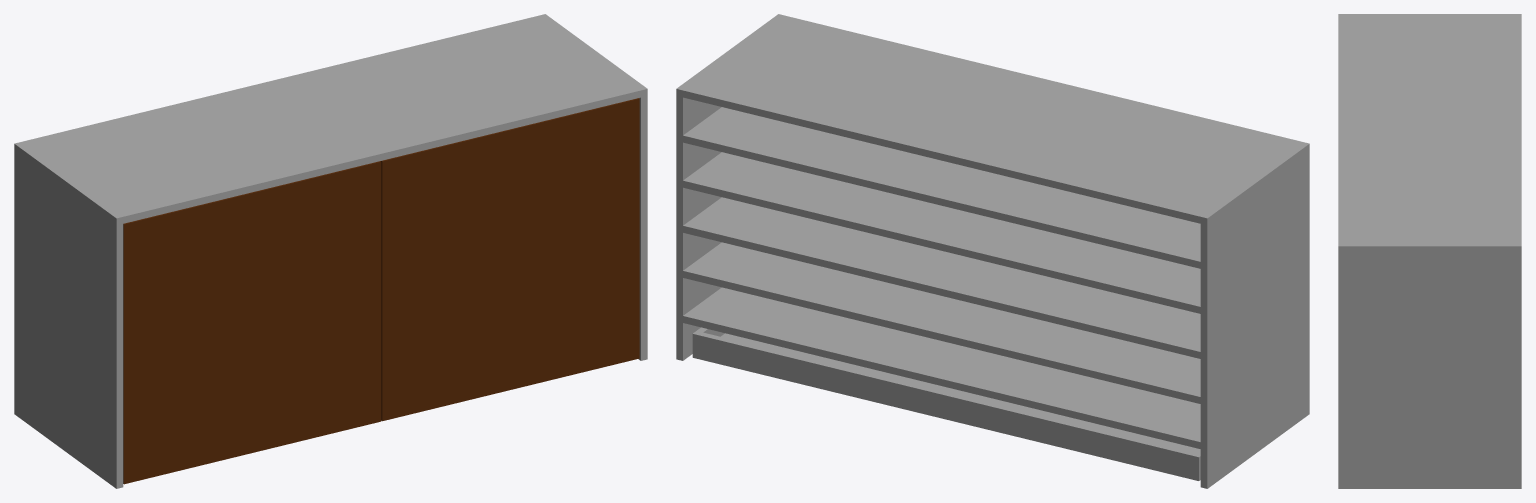
The model's file is meuble_69020ff2ae0a9.glb.
3 renders of one model, left to right at view 1: azimuth 30°, elevation 25°; view 2: azimuth 150°, elevation 25°; view 3: azimuth 270°, elevation 25°, orthographic. The views are drawn at different scales.
Parts seen in each view (by area): view 1: world; view 2: world; view 3: world.
Boxes of the visible parts, left/top/right/bottom form: world: left=14, top=14, right=647, bottom=488; world: left=676, top=14, right=1309, bottom=488; world: left=1338, top=14, right=1521, bottom=488.
Size of the model in its own units: 1.5 by 0.73 by 0.5.
Materials: 1 (1 with a texture image).
